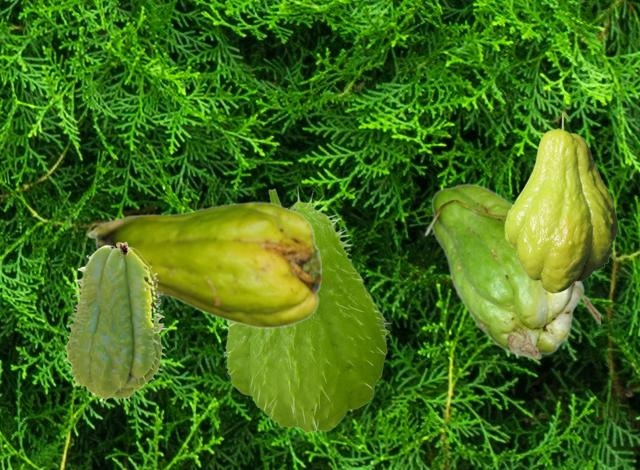sayote: (220, 185, 391, 432), (423, 183, 599, 359), (86, 201, 320, 328), (504, 111, 617, 292), (63, 241, 166, 403)
